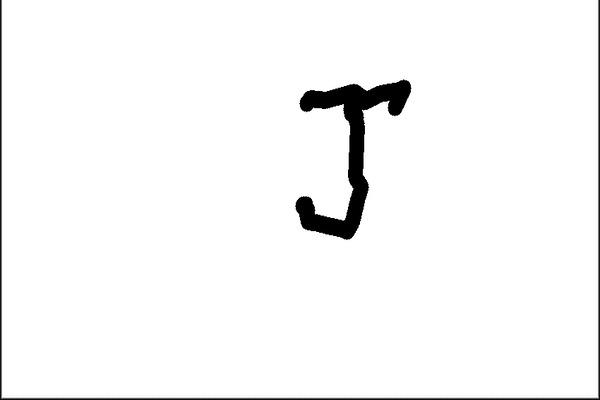J: (288, 74, 415, 244)
